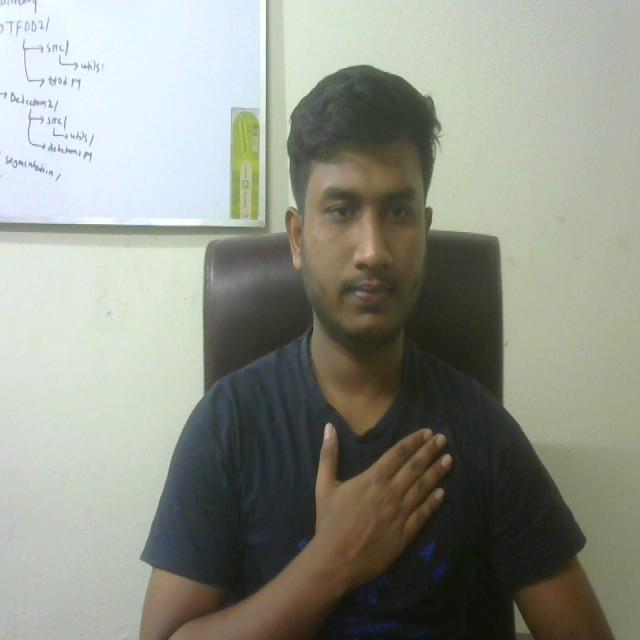Please: (301, 402, 457, 586)
